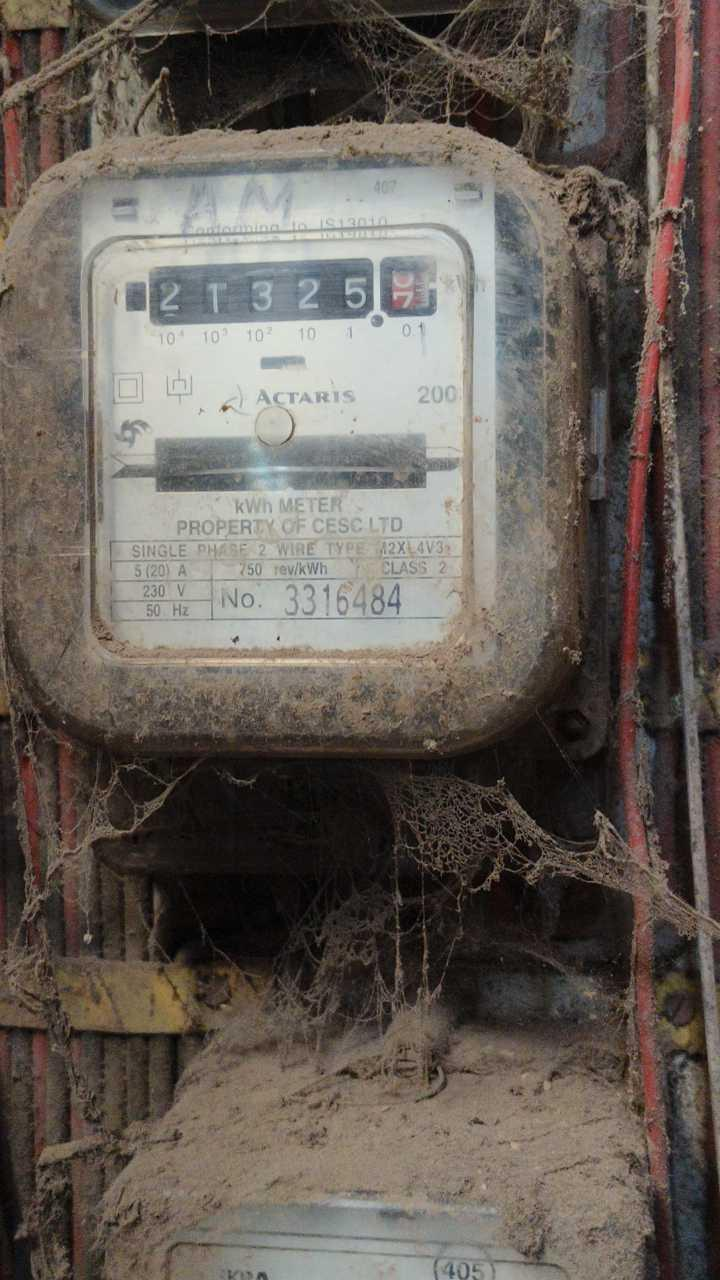meter_readings: (155, 270, 422, 318)
serial_number: (274, 580, 411, 618)
